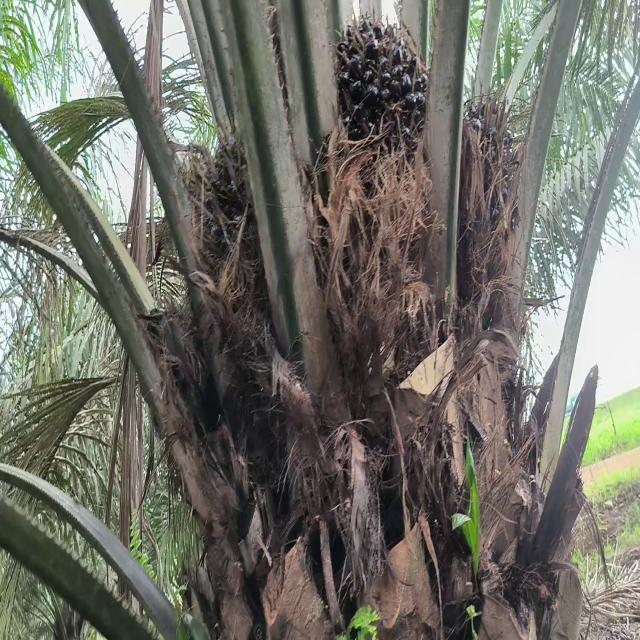palm-oil: (331, 11, 433, 185)
